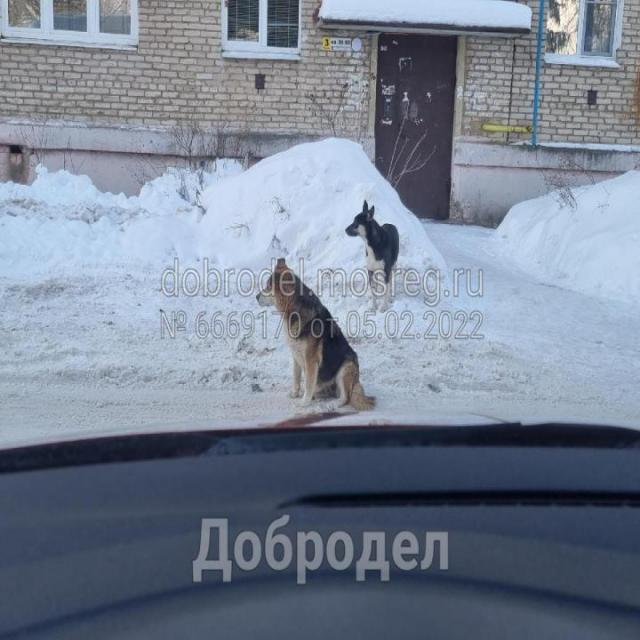dog: (252, 259, 372, 416), (340, 204, 402, 297)
